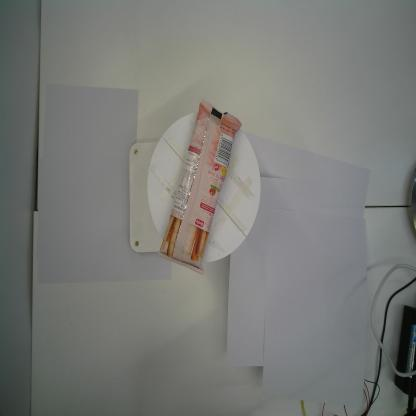Dessert: (156, 96, 242, 276)
